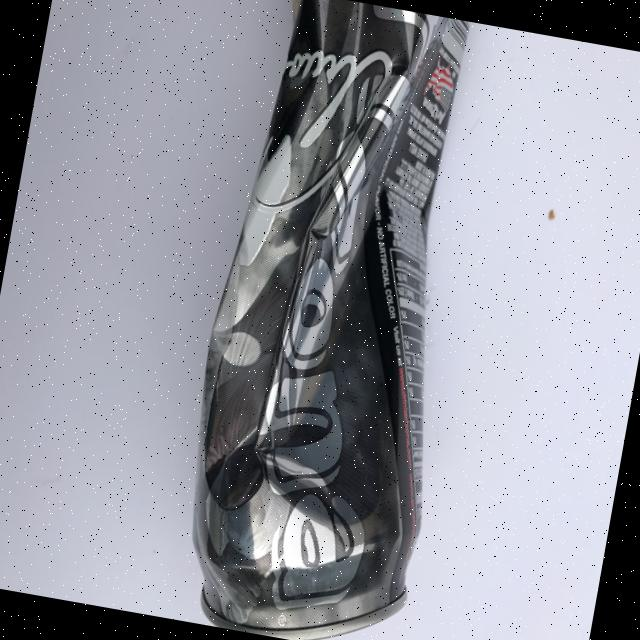metal: (160, 0, 508, 640)
